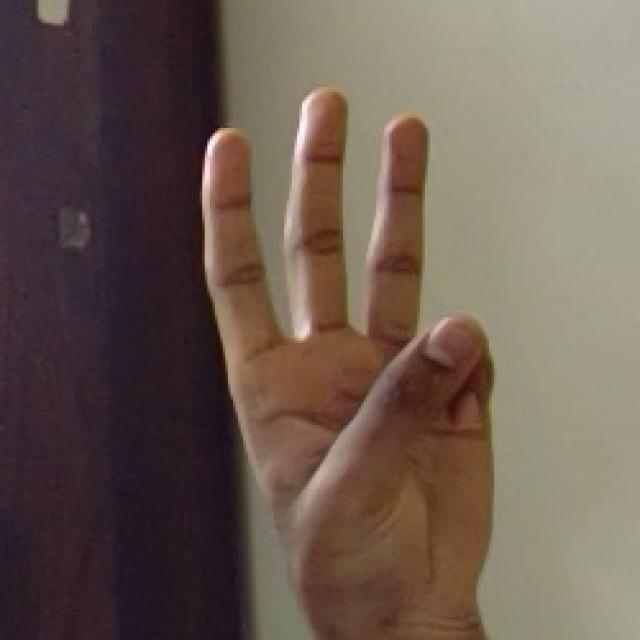Numeric-6: (183, 85, 514, 624)
